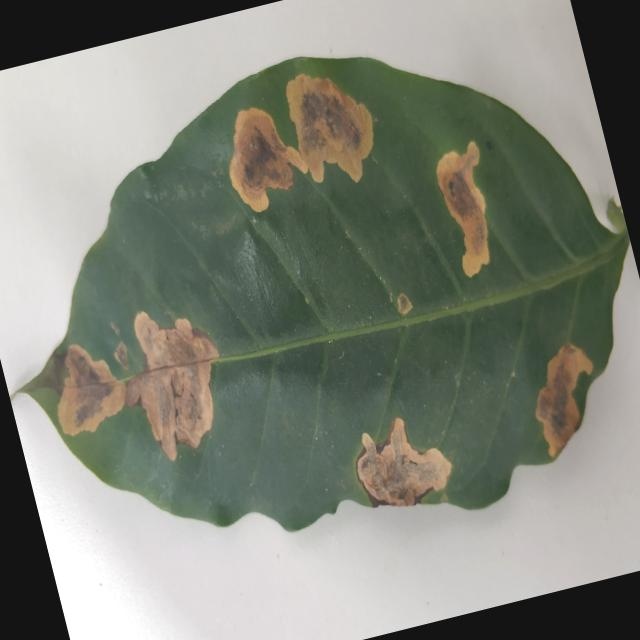KaratDaunKopi: (125, 312, 218, 460), (285, 73, 373, 182), (356, 417, 451, 505), (229, 107, 307, 211), (436, 141, 489, 277), (535, 342, 592, 456), (57, 344, 126, 435), (114, 341, 128, 370), (397, 293, 412, 314), (110, 322, 119, 334)
